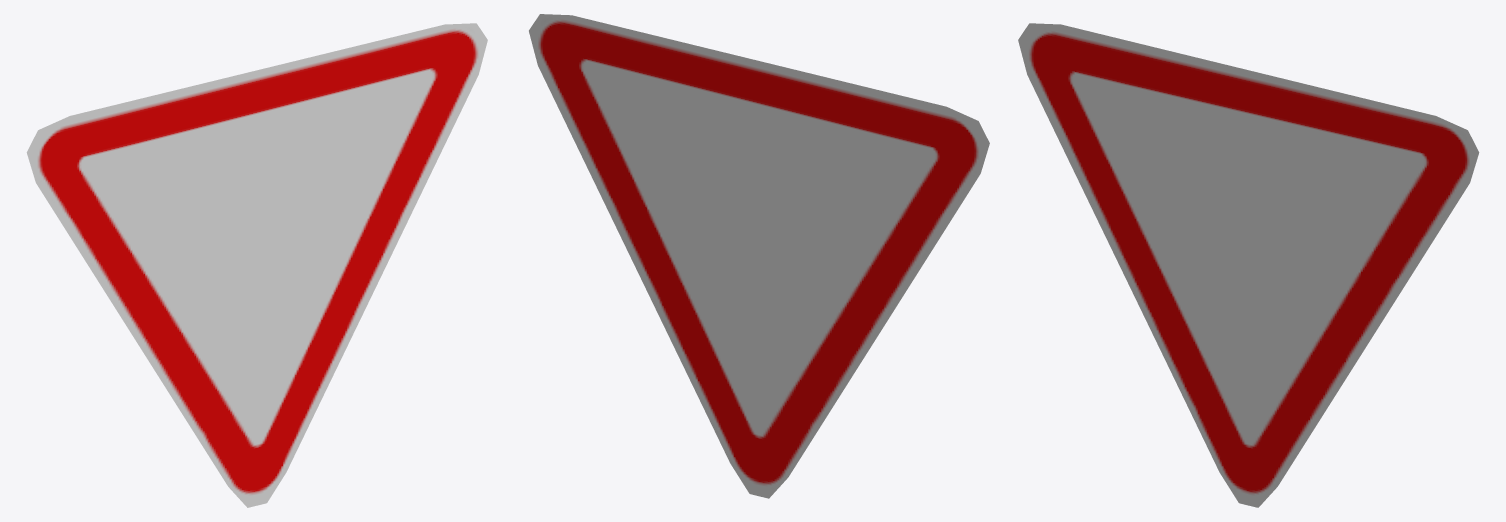
The model's file is SM_Road_Sign_07.fbx.
3 views of the same model, side by side, from view 1: azimuth 30°, elevation 25°; view 2: azimuth 150°, elevation 25°; view 3: azimuth 330°, elevation 25° (orthographic).
Visible parts, largest first — view 1: SM_Road_Sign_07; view 2: SM_Road_Sign_07; view 3: SM_Road_Sign_07.
Part boxes in pixels (box(x1,y1,x2,y2)): SM_Road_Sign_07: box(26, 23, 487, 507); SM_Road_Sign_07: box(529, 14, 989, 498); SM_Road_Sign_07: box(1018, 23, 1479, 507).
Size of the model in its own units: 48.62 by 43.85 by 2.3.
